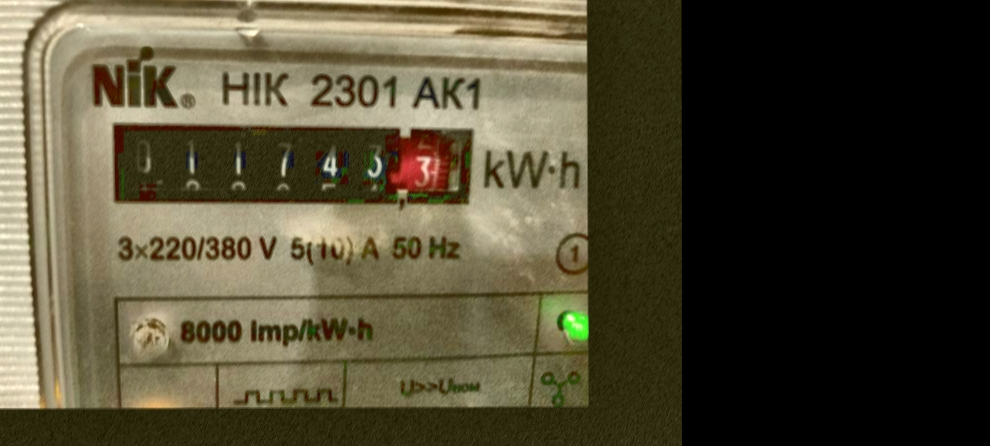0: (130, 138, 152, 177), (180, 137, 198, 178)
1: (227, 138, 243, 179)
3: (362, 140, 382, 184), (410, 153, 430, 191)
4: (317, 141, 337, 181)
7: (270, 138, 293, 182)
screen: (91, 110, 479, 219)
